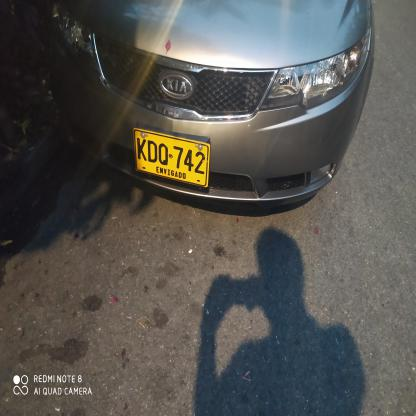placa: (125, 124, 217, 193)
